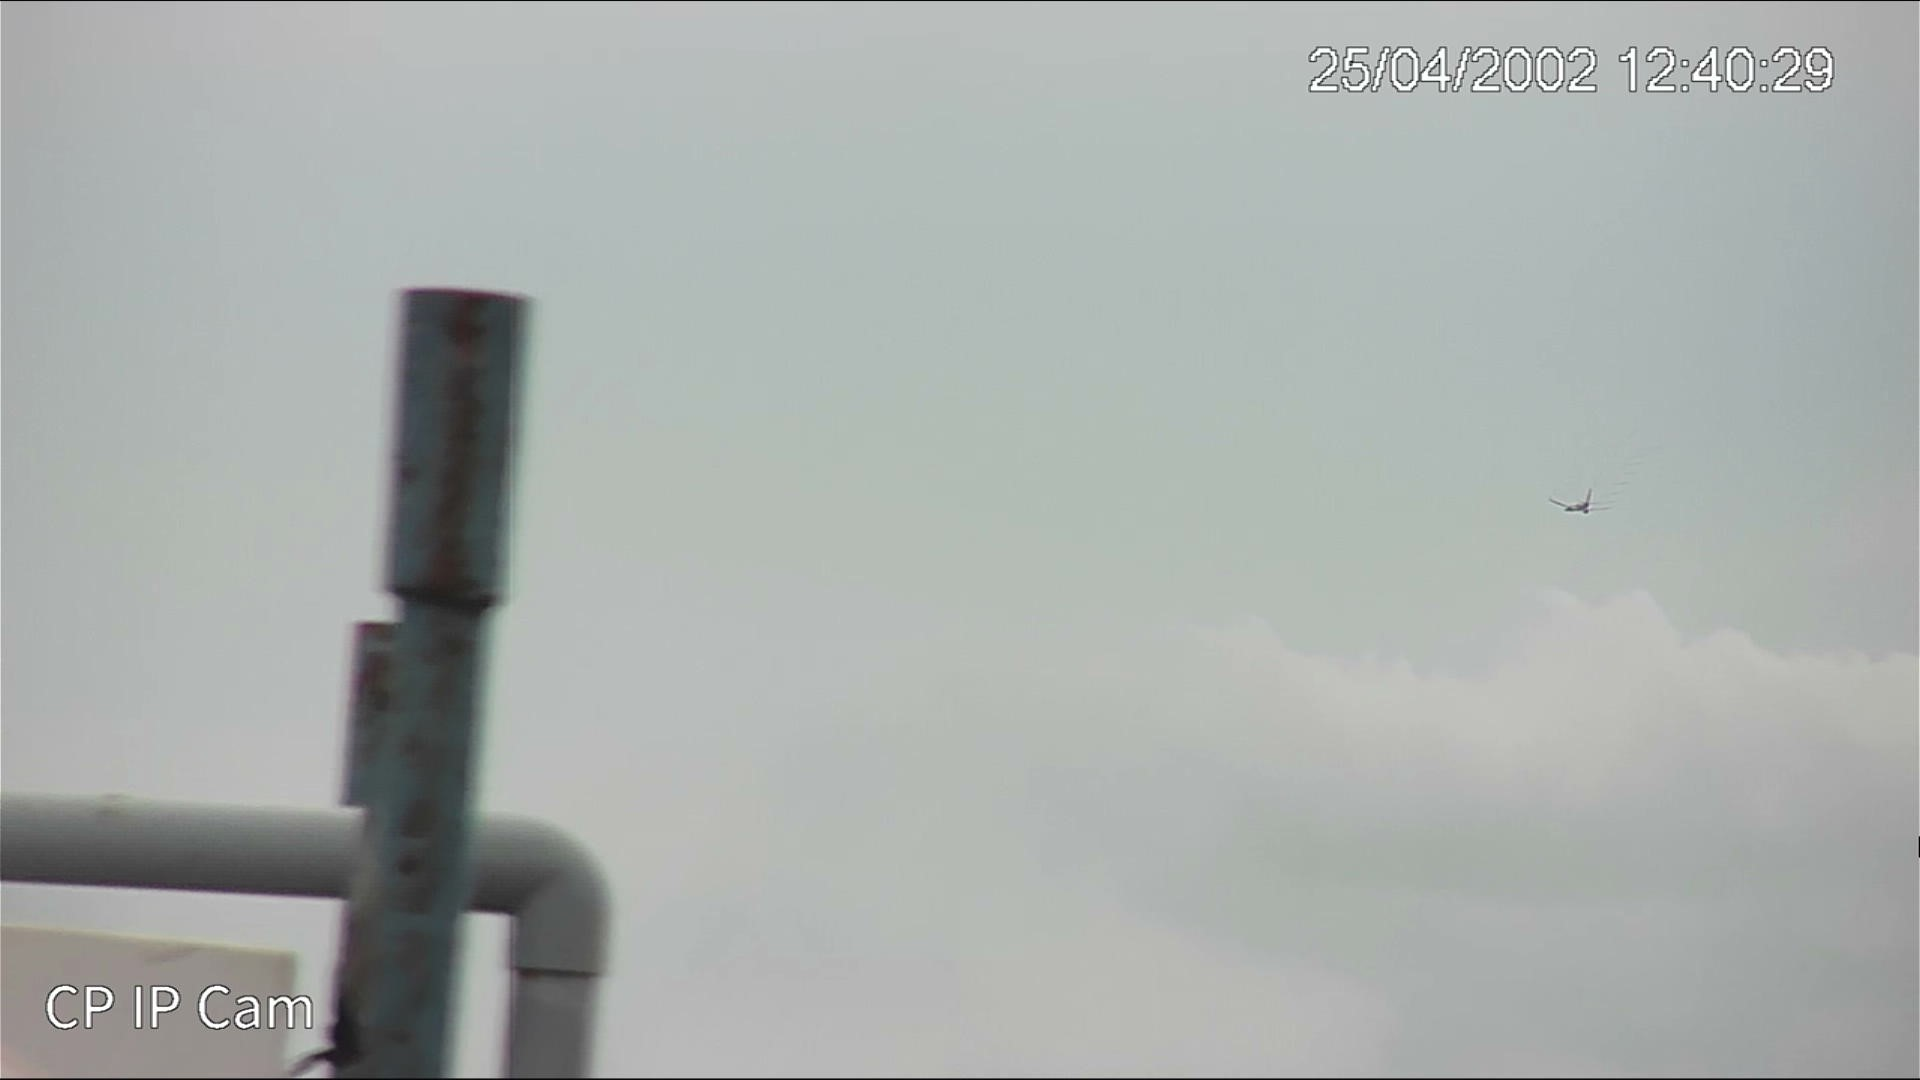SU_30: (1544, 489, 1607, 513)
